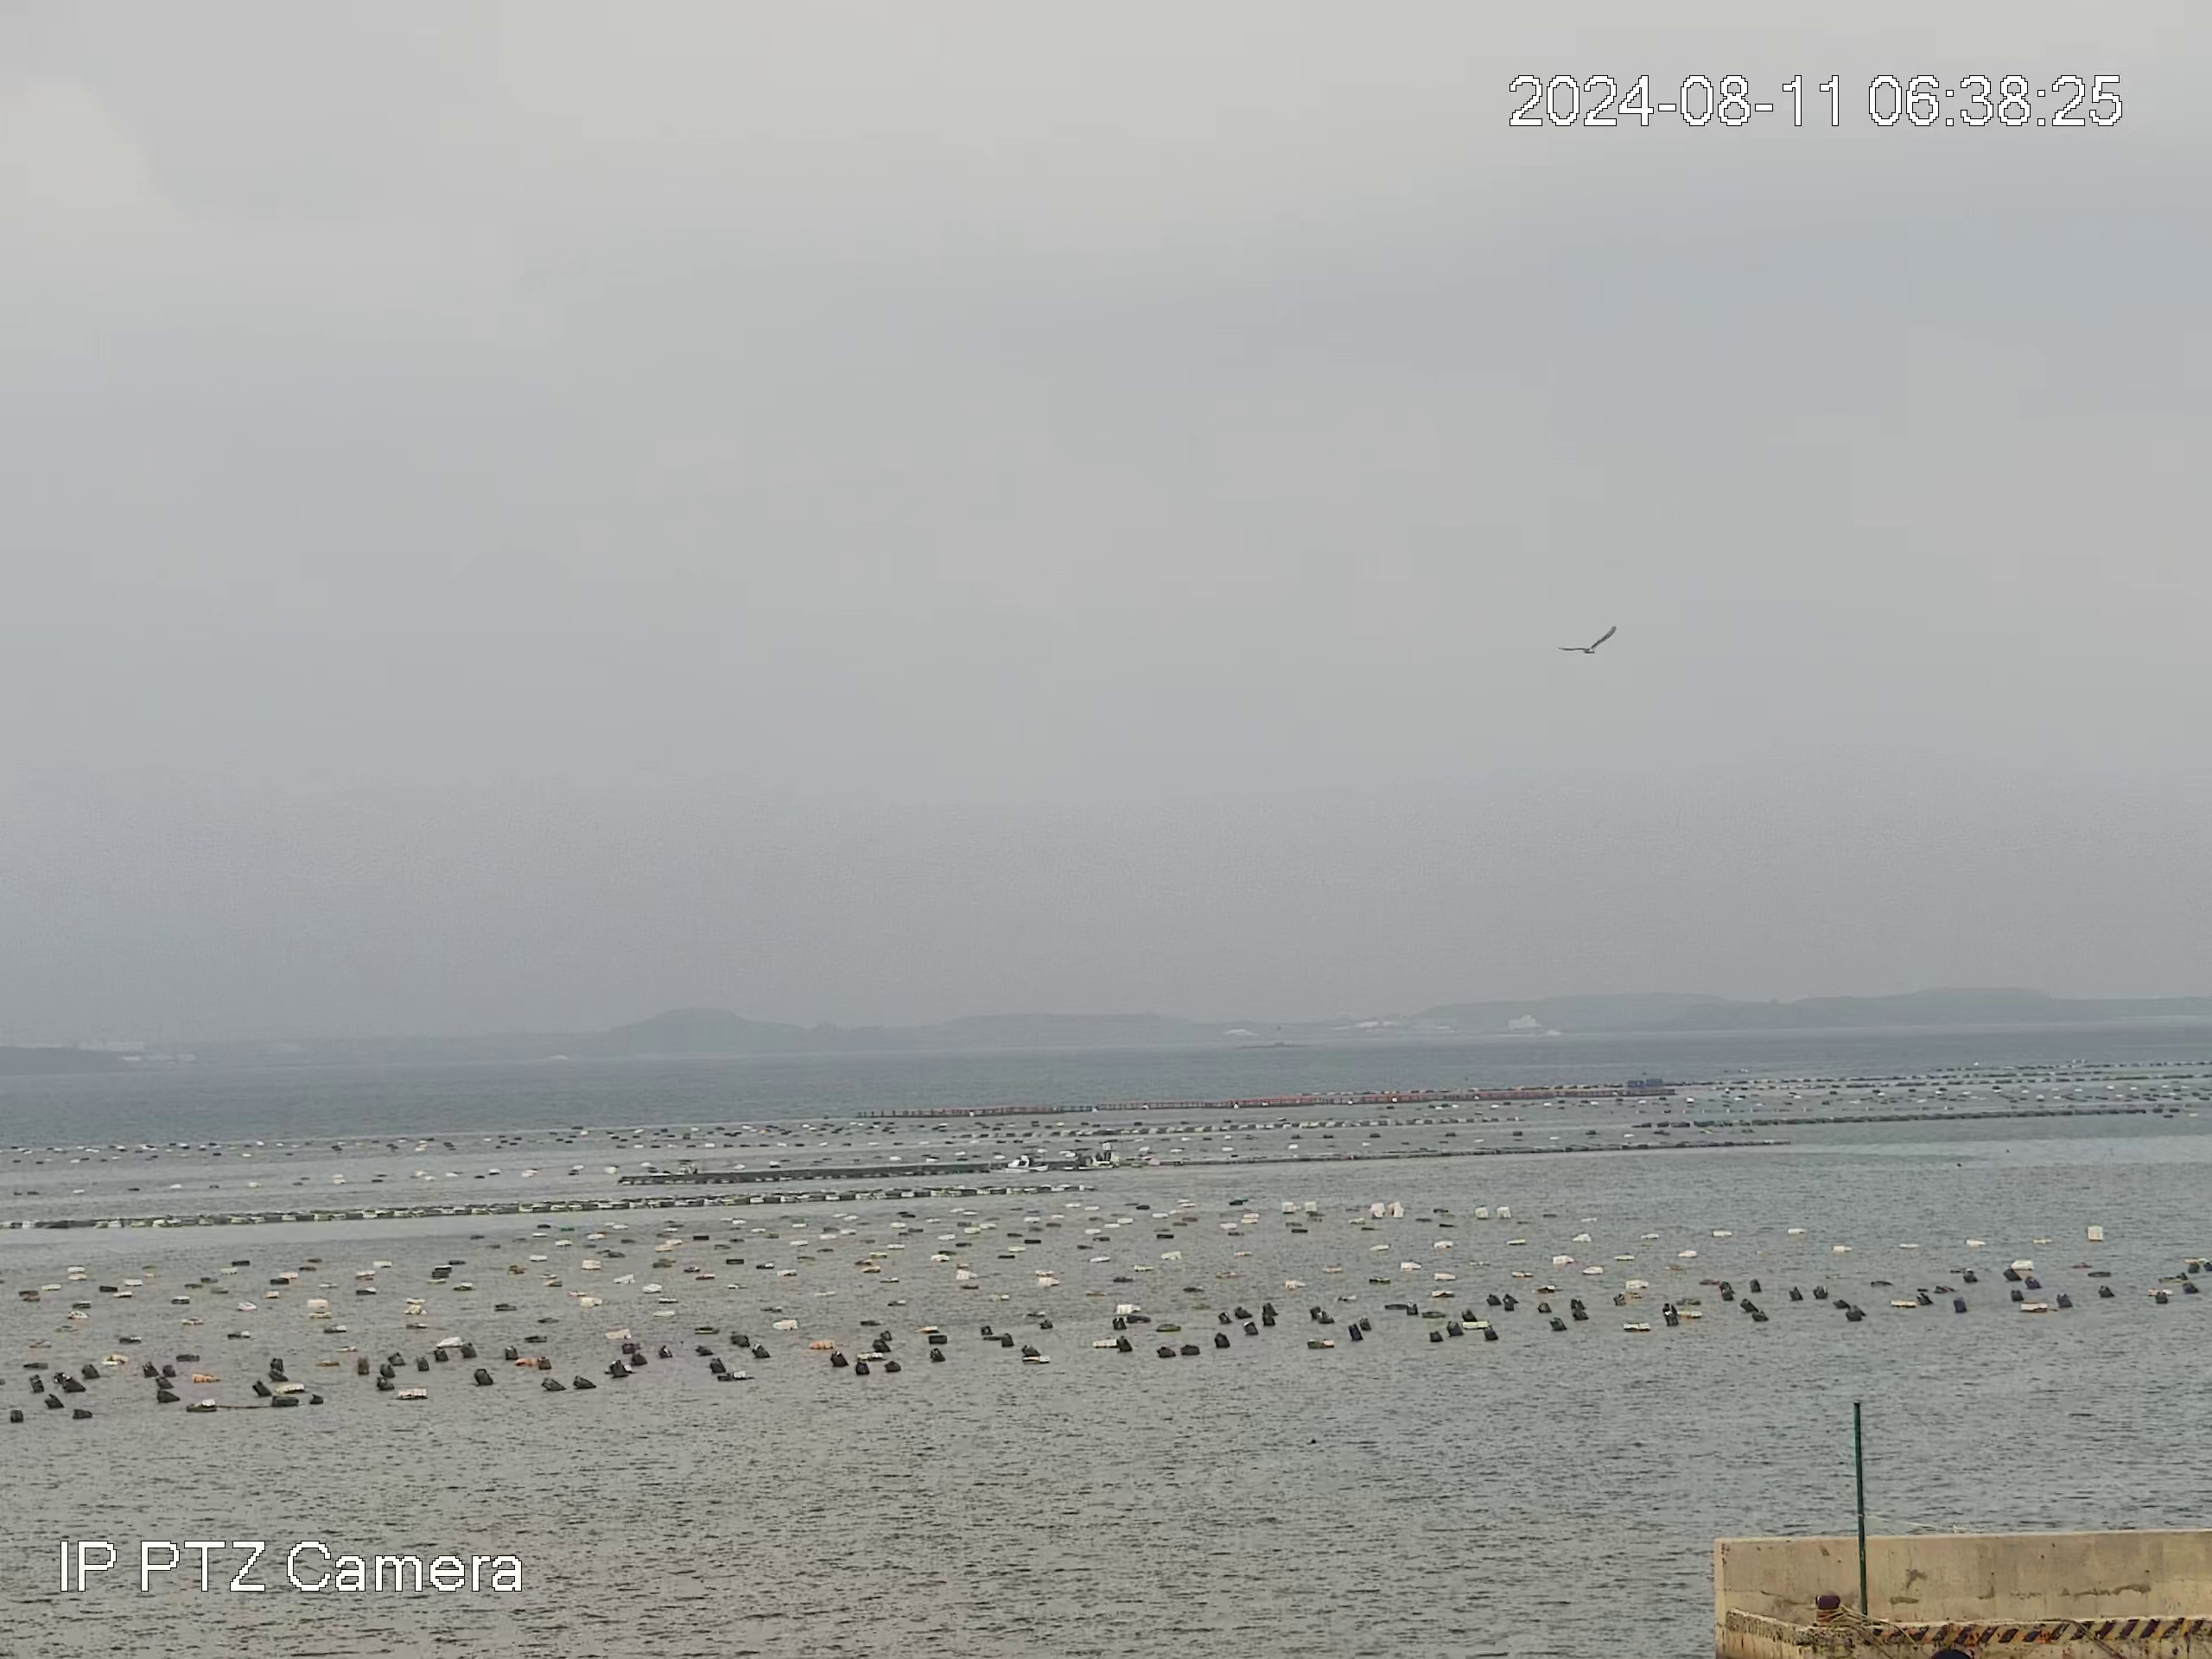boat: (988, 1152, 1049, 1176), (1061, 1147, 1113, 1173)
